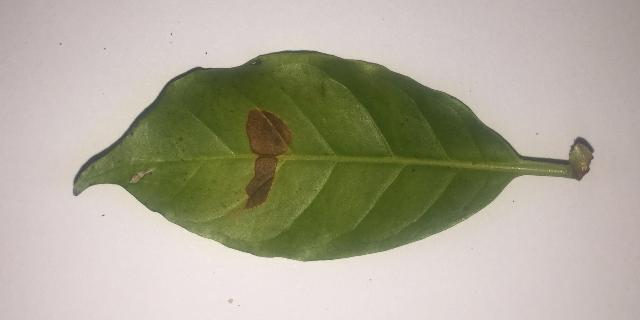cercospora: (243, 108, 292, 211)
